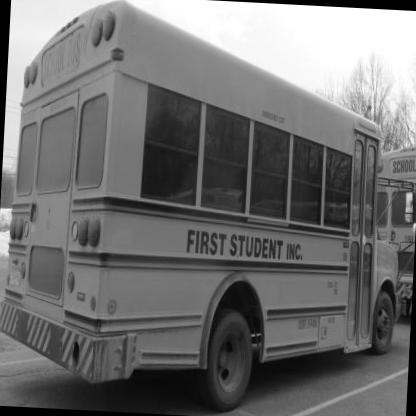bus: (1, 6, 416, 414)
